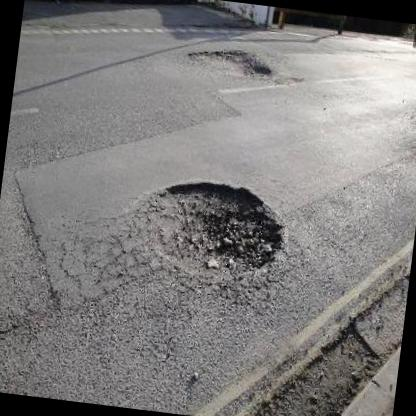pothole: (134, 170, 290, 283), (243, 307, 386, 416), (179, 38, 275, 84)
